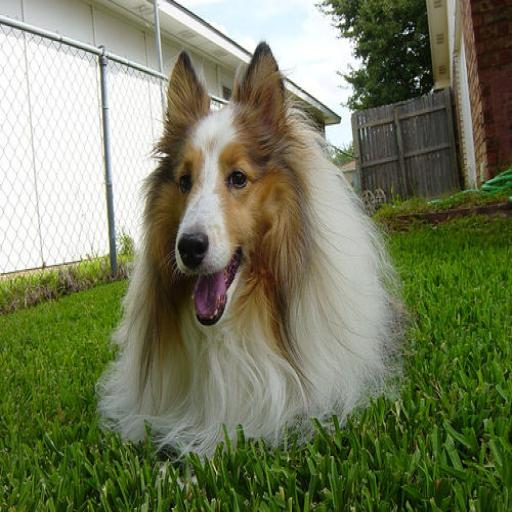dog_face: (154, 49, 285, 336)
